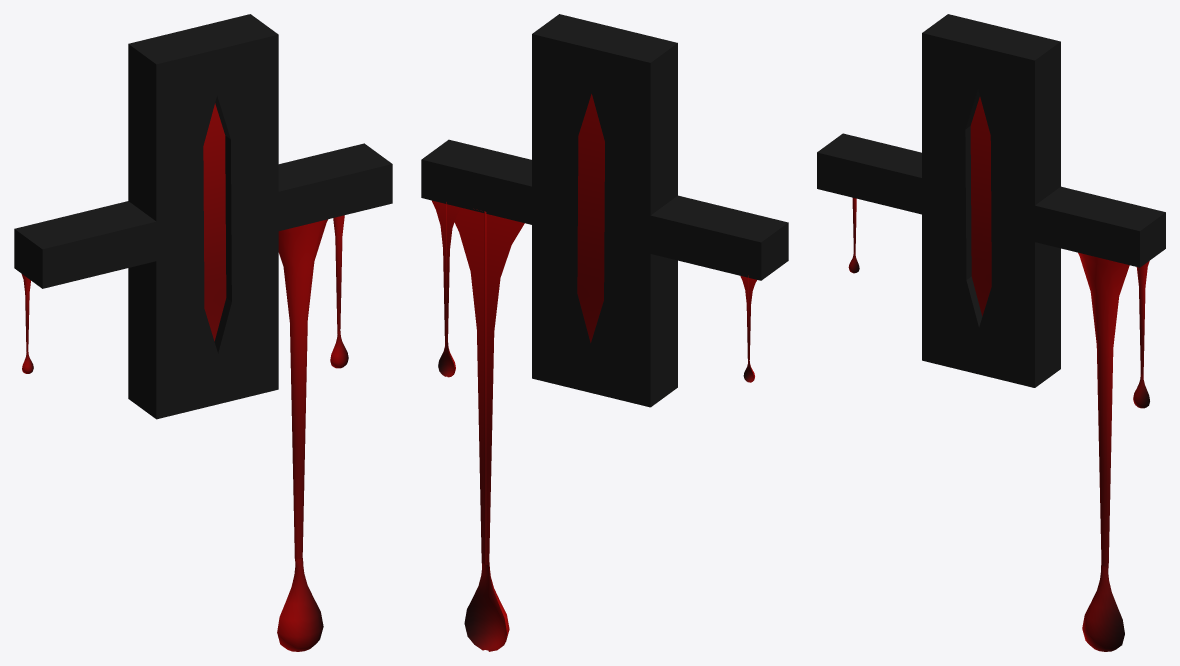
File: Plus.FBX
3 views of the same model, side by side, from view 1: azimuth 30°, elevation 25°; view 2: azimuth 150°, elevation 25°; view 3: azimuth 330°, elevation 25° (orthographic). The views are drawn at different scales.
Visible parts, largest first — view 1: Plus, Blood_146, Plus_Element, Blood_147; view 2: Plus, Blood_146, Plus_Element, Blood_147, Blood_145; view 3: Plus, Blood_146, Plus_Element, Blood_147.
Part boxes in pixels (x1,y1,x2,y2): Plus: [14, 14, 392, 419]; Blood_146: [277, 219, 327, 651]; Plus_Element: [203, 103, 226, 341]; Blood_147: [330, 215, 348, 368]; Plus: [421, 14, 788, 407]; Blood_146: [454, 208, 524, 651]; Plus_Element: [577, 94, 604, 342]; Blood_147: [432, 200, 460, 377]; Blood_145: [740, 275, 756, 382]; Plus: [817, 14, 1165, 387]; Blood_146: [1078, 252, 1129, 651]; Plus_Element: [970, 97, 991, 316]; Blood_147: [1133, 261, 1149, 408].
Bounding box in the file's own units: 35.92 × 63.55 × 5.05.
2 materials, 1 textured.
